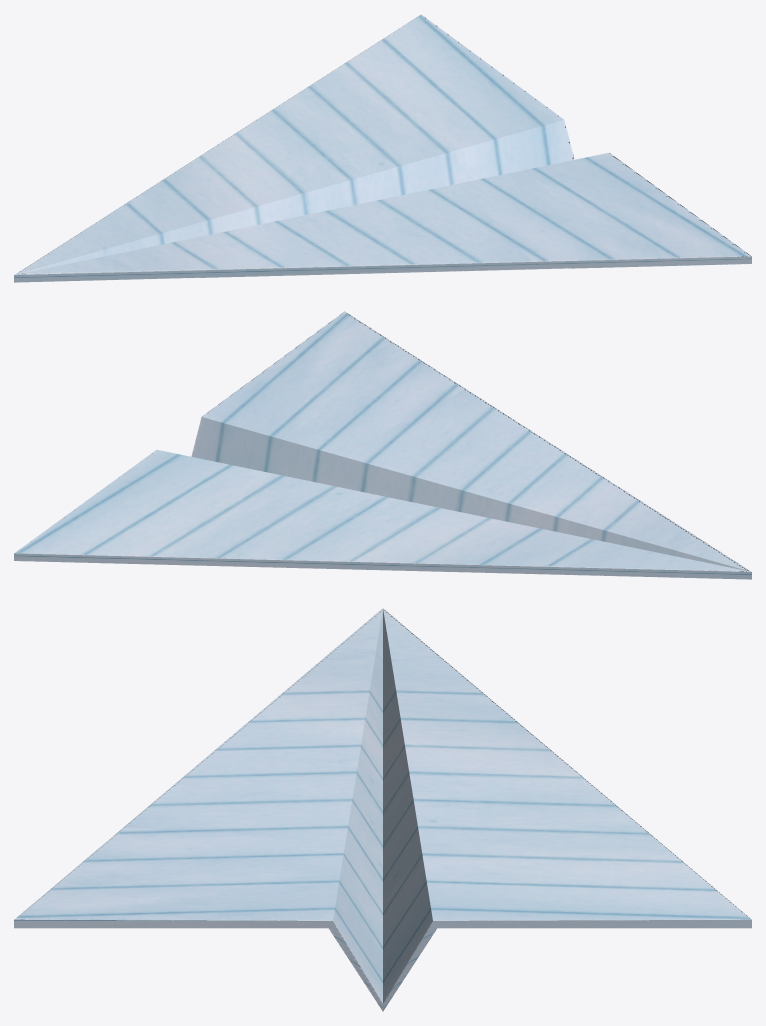
File: Paperplane_blue.FBX
The picture shows the model from 3 angles, top to bottom: view 1: azimuth 30°, elevation 25°; view 2: azimuth 150°, elevation 25°; view 3: azimuth 270°, elevation 25°; orthographic projection. The views are drawn at different scales.
Parts seen in each view (by area): view 1: Paperplane; view 2: Paperplane; view 3: Paperplane.
Boxes of the visible parts, x1=… form: Paperplane: x1=14, y1=14, x2=751, y2=282; Paperplane: x1=14, y1=311, x2=751, y2=579; Paperplane: x1=14, y1=608, x2=751, y2=1011.
Bounding box in the file's own units: 8.22 × 1.13 × 8.21.
1 material, 1 textured.
